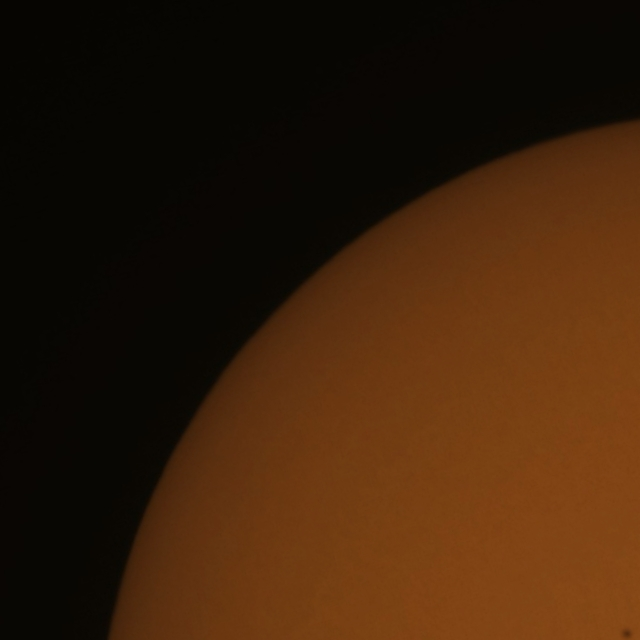sunspot: (618, 626, 636, 640)
